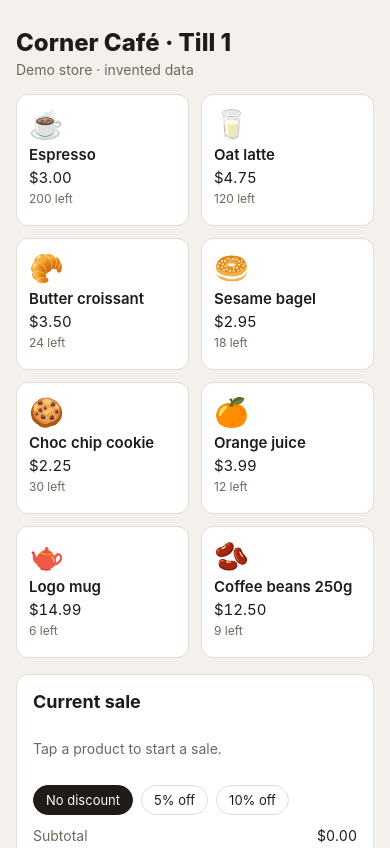
<PosScreen> › builds a sale from product taps and shows correct totals
Click the button with aria-label "Add Espresso" at (102,160), box [16,94,189,226]
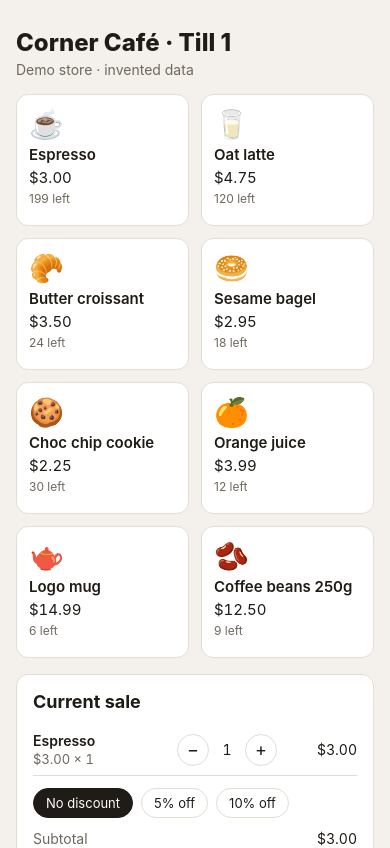
Click the button with aria-label "Add Espresso" at (102,160), box [16,94,189,226]
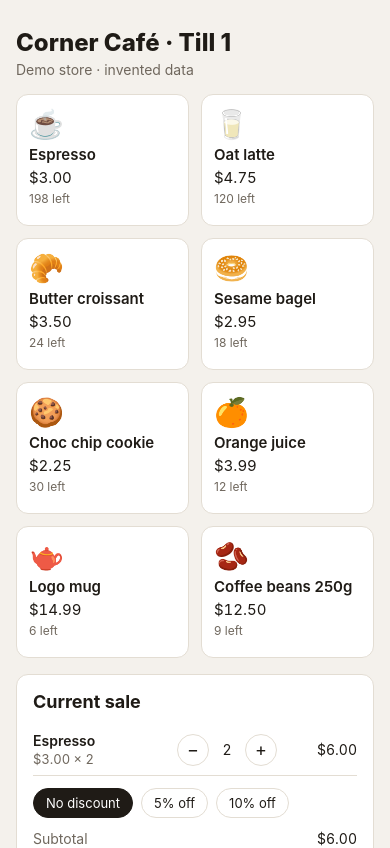
Click the button with aria-label "Add Logo mug" at (102,592), box [16,526,189,658]
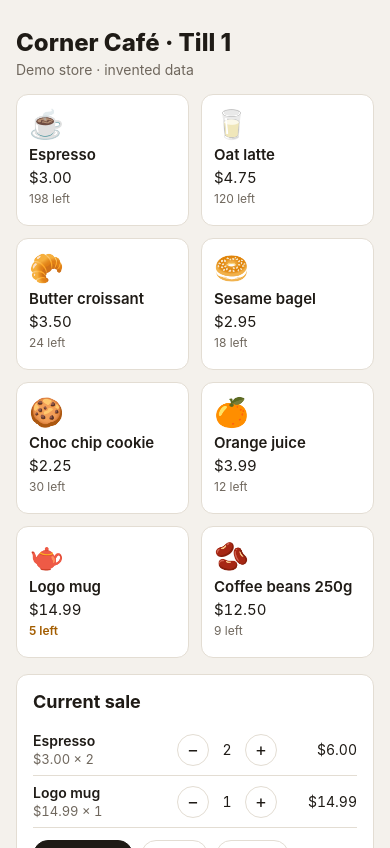
Check: the element with test id "cart-line-COF-ESP" shows "$3.00 × 2", box [33,724,357,776]
Click the button named "Remove one Espresso" at (193,750), box [177,734,209,766]
(page scrolled)
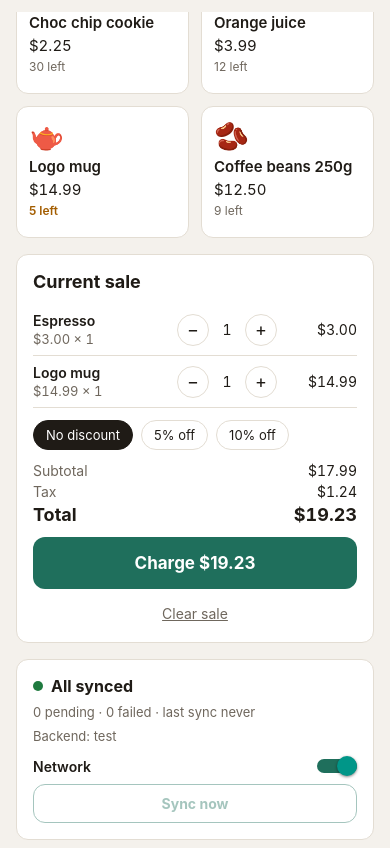
Check: the text with test id "cart-total" reads "$19.23", box [294,504,357,525]
